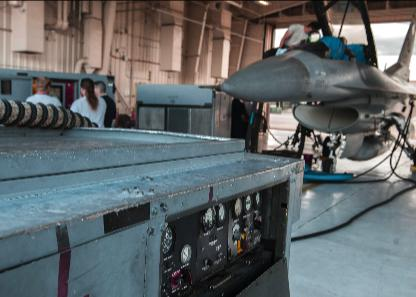F14: (197, 0, 415, 174)
